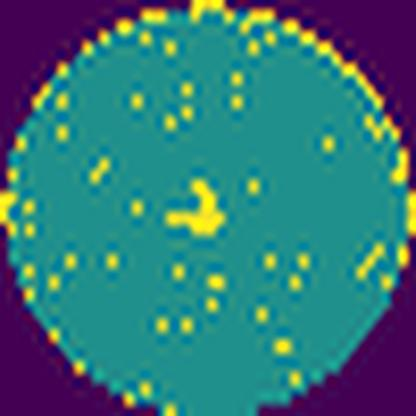Center: (166, 181, 225, 240)
